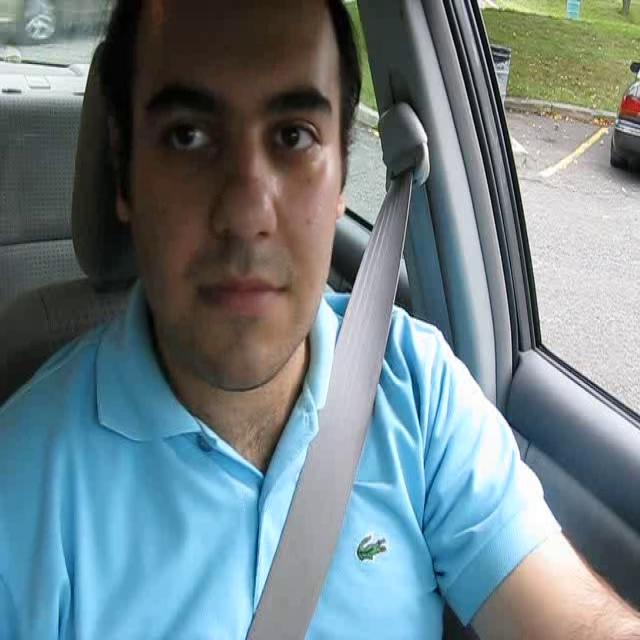close: (197, 269, 289, 320)
